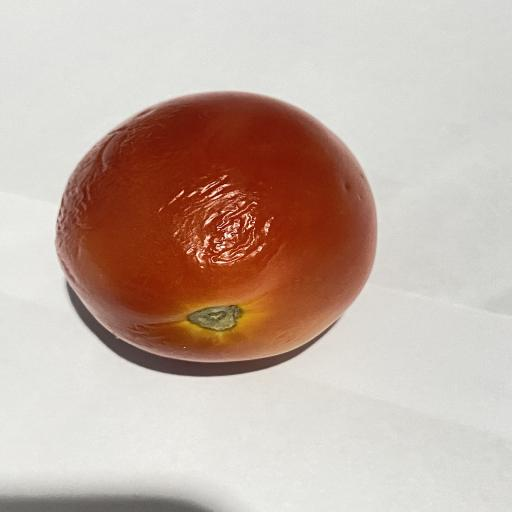spoiled: (56, 92, 376, 362), (263, 219, 272, 234)
